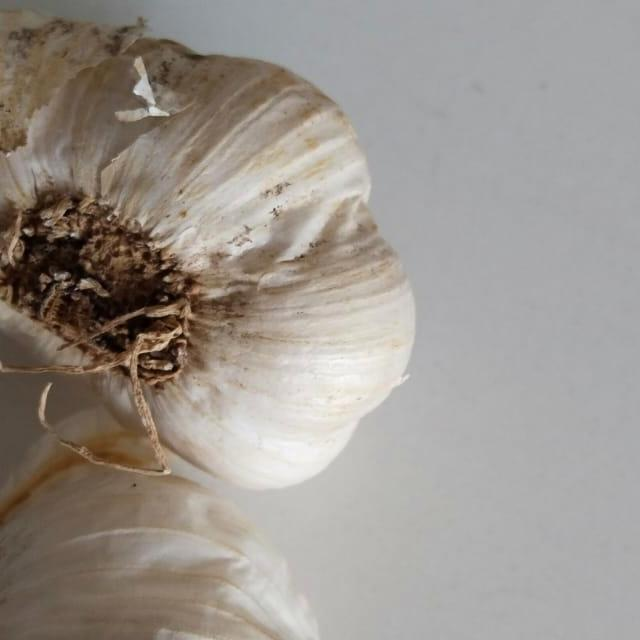garlic: (0, 0, 540, 460), (0, 425, 382, 640)
